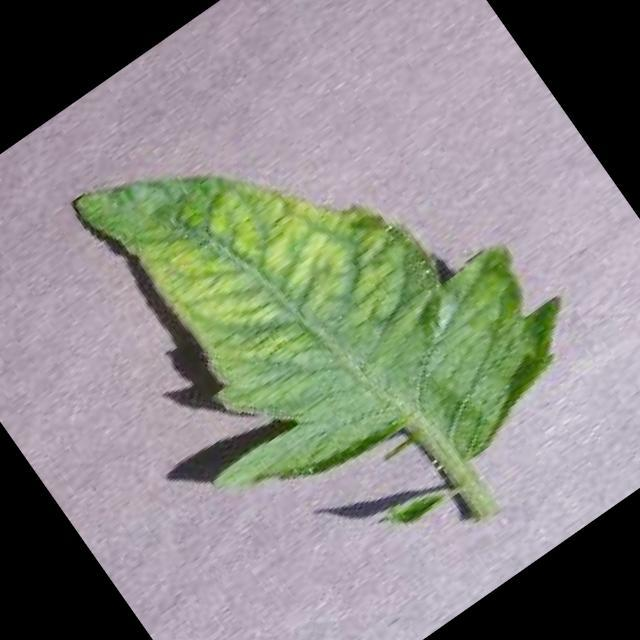Tomato mosaic virus leaf: (26, 0, 610, 591)
